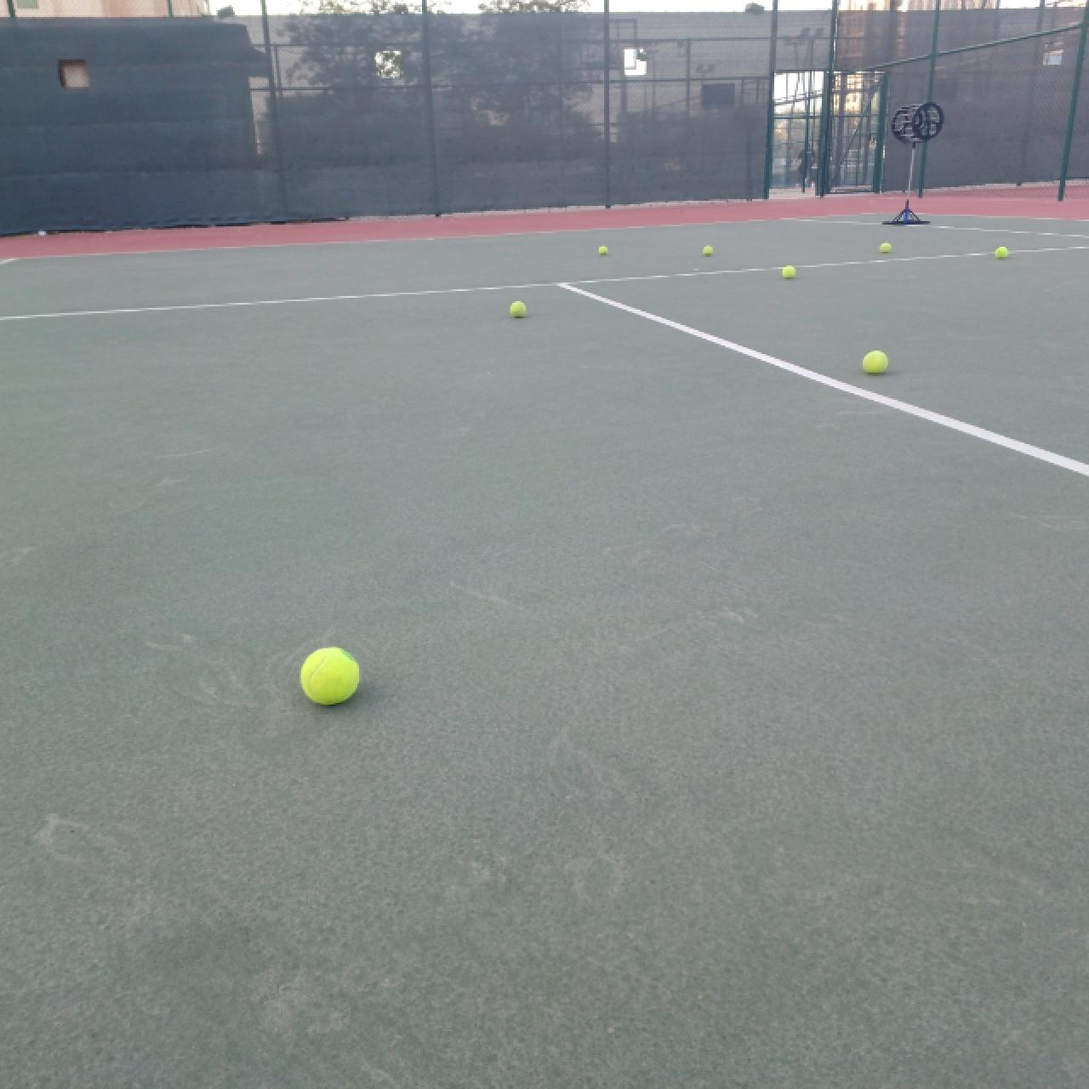tennis-ball: (299, 643, 361, 707), (860, 348, 894, 378), (992, 243, 1012, 262), (780, 263, 798, 282), (510, 298, 527, 318), (877, 240, 894, 255), (701, 244, 715, 258), (599, 246, 609, 257)
